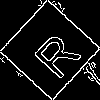R: (24, 24, 83, 82)
